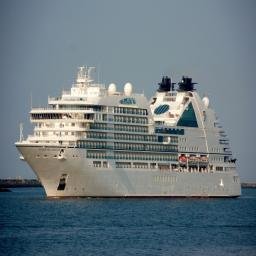cruises: (14, 62, 244, 203)
